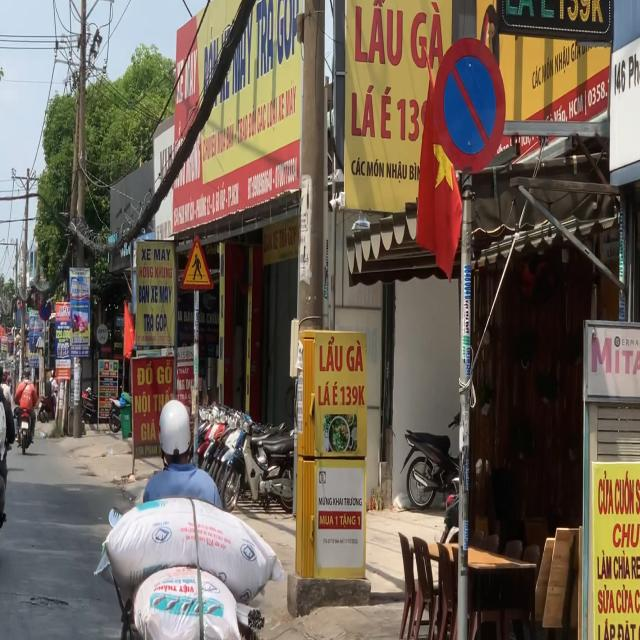Cam do: (432, 35, 507, 177)
Nguoi di bo cat ngang: (178, 233, 215, 293)
